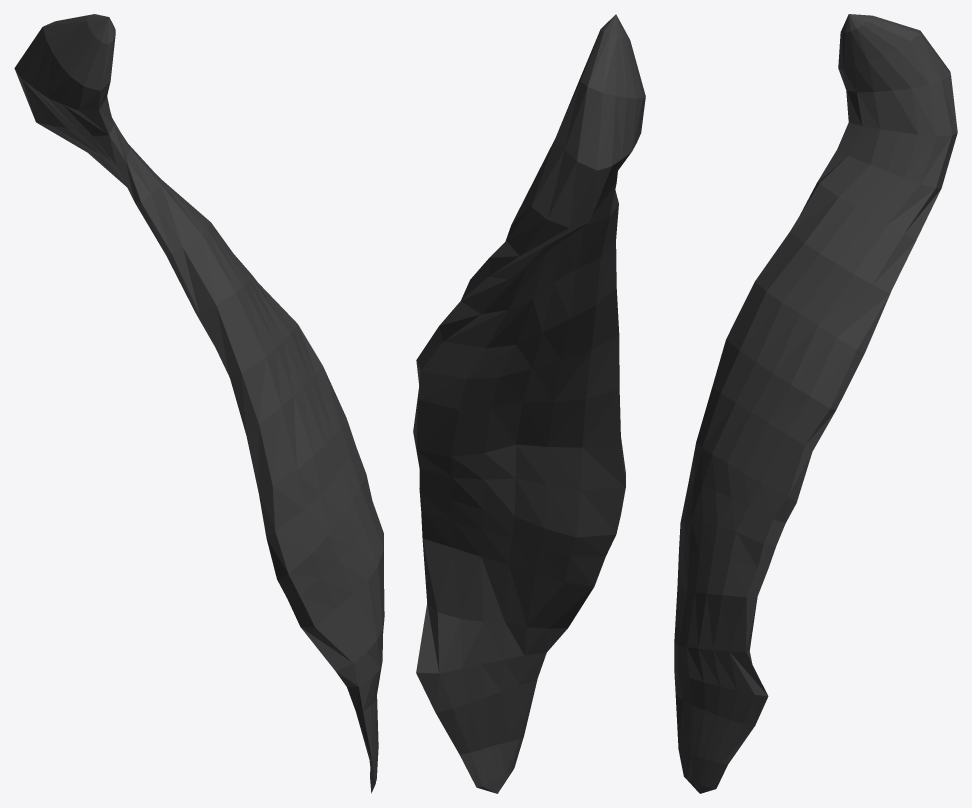
File: TensorFasciaLatae.glb
3 views of the same model, side by side, from view 1: azimuth 30°, elevation 25°; view 2: azimuth 150°, elevation 25°; view 3: azimuth 270°, elevation 25° (orthographic). The views are drawn at different scales.
Visible parts, largest first — view 1: TensorFasciaLatae; view 2: TensorFasciaLatae; view 3: TensorFasciaLatae.
Part boxes in pixels (x1,y1,x2,y2): TensorFasciaLatae: (14, 14, 384, 793); TensorFasciaLatae: (413, 14, 645, 793); TensorFasciaLatae: (674, 14, 957, 793).
Bounding box in the file's own units: 2.82 × 7.86 × 2.89.
Materials: 1 (1 with a texture image).
